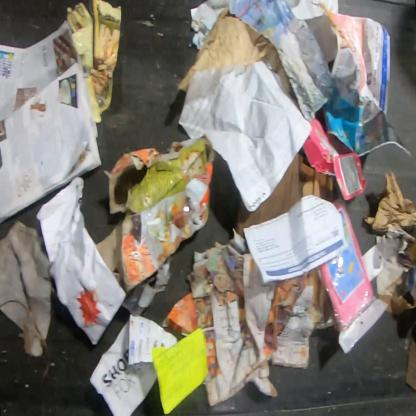cardboard: (98, 136, 215, 291), (235, 146, 342, 230), (300, 118, 366, 202), (363, 172, 415, 233), (308, 267, 326, 311), (407, 341, 415, 392)
soft_plastic: (317, 199, 387, 355)
